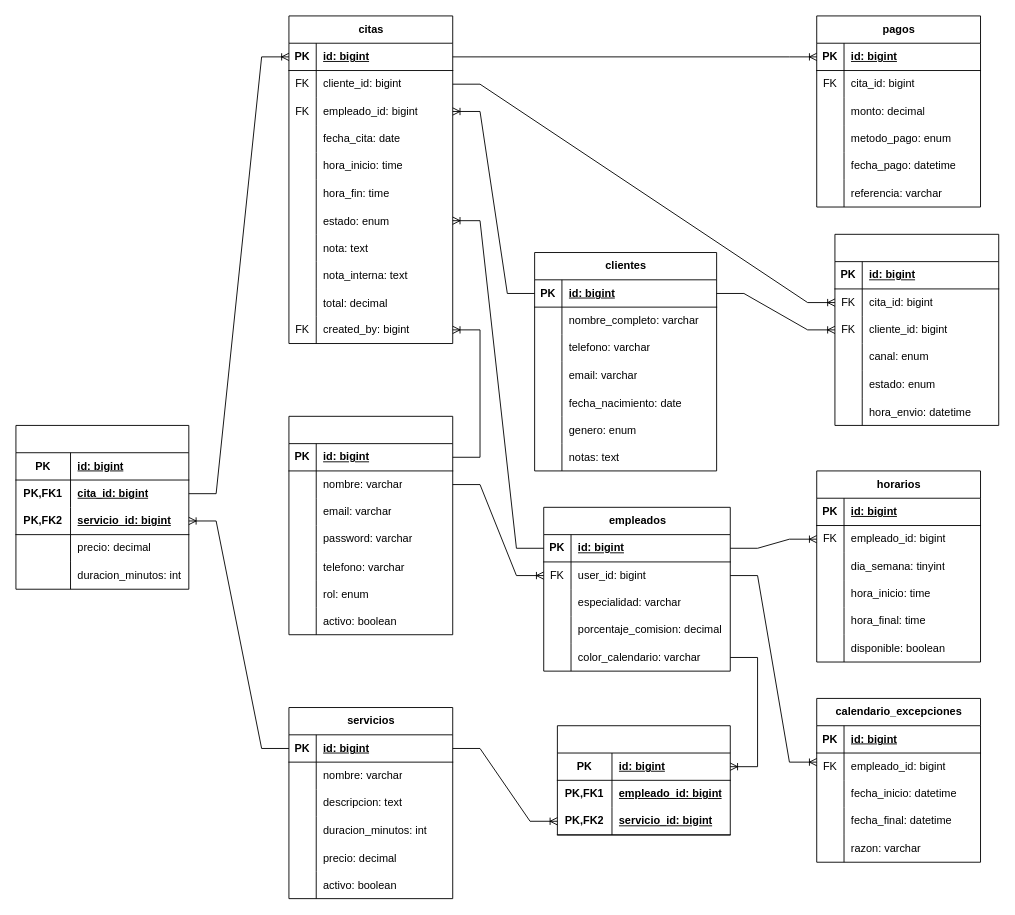
This 1015x915 diagram has some shape labels left out. Each missing label, with the box of its shape:
cita_servicios: (15, 425, 189, 589)
empleado_servicios: (556, 725, 730, 835)
notificaciones: (834, 233, 999, 425)
users: (288, 415, 453, 635)
